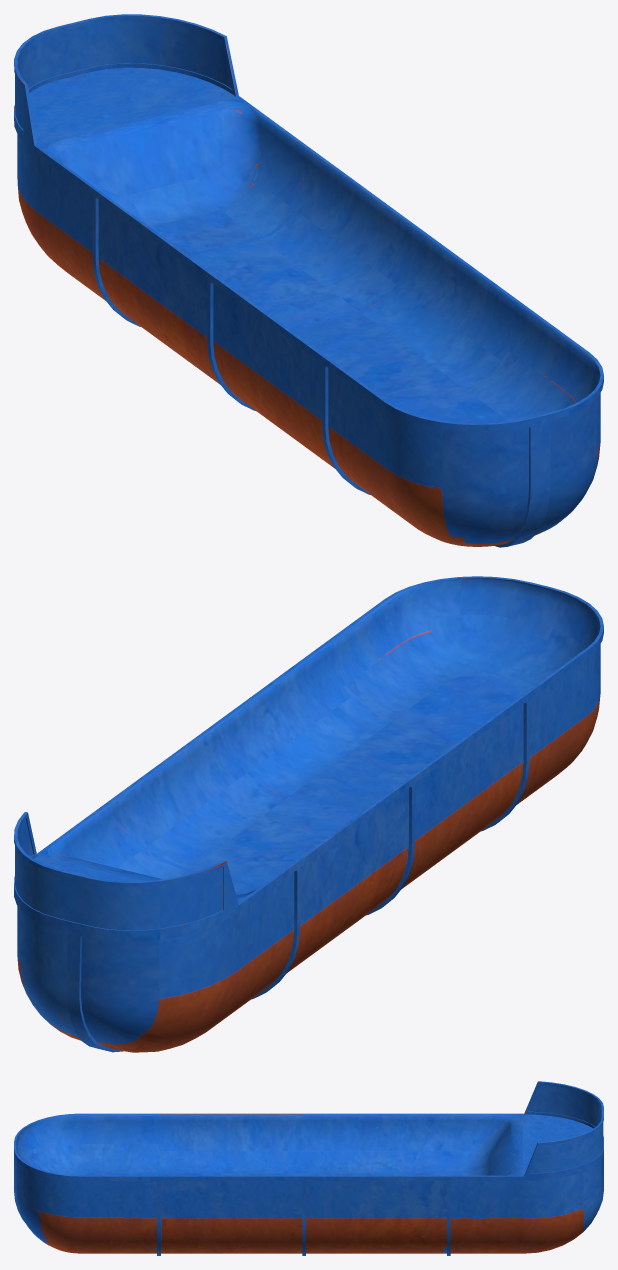
The model's file is boat_textured_test.FBX.
3 views of the same model, one above another, from view 1: azimuth 30°, elevation 25°; view 2: azimuth 150°, elevation 25°; view 3: azimuth 270°, elevation 25° (orthographic). The views are drawn at different scales.
Parts seen in each view (by area): view 1: Cube.001; view 2: Cube.001; view 3: Cube.001.
Part boxes in pixels (x1,y1,x2,y2): Cube.001: (14, 14, 603, 547); Cube.001: (14, 576, 603, 1052); Cube.001: (14, 1081, 603, 1255).
Size of the model in its own units: 206 by 203 by 815.
1 material, 1 textured.
